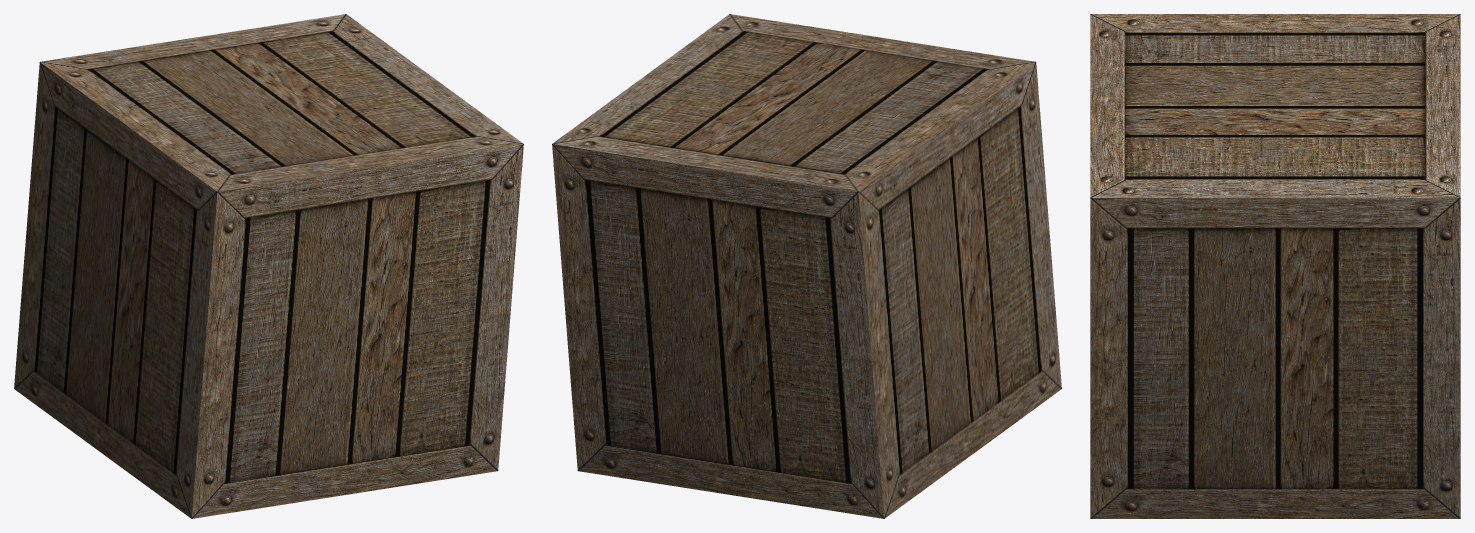
The model's file is mm9_deco_crater355.glb.
The picture shows the model from 3 angles, left to right: view 1: azimuth 30°, elevation 25°; view 2: azimuth 150°, elevation 25°; view 3: azimuth 270°, elevation 25°; orthographic projection. The views are drawn at different scales.
Visible parts, largest first — view 1: Crater355; view 2: Crater355; view 3: Crater355.
Boxes of the visible parts, box(x1,y1,x2,y2) form: Crater355: box(14, 14, 523, 518); Crater355: box(552, 14, 1061, 518); Crater355: box(1090, 14, 1460, 518).
Bounding box in the file's own units: 1.62 × 1.62 × 1.5.
Materials: 1 (1 with a texture image).
